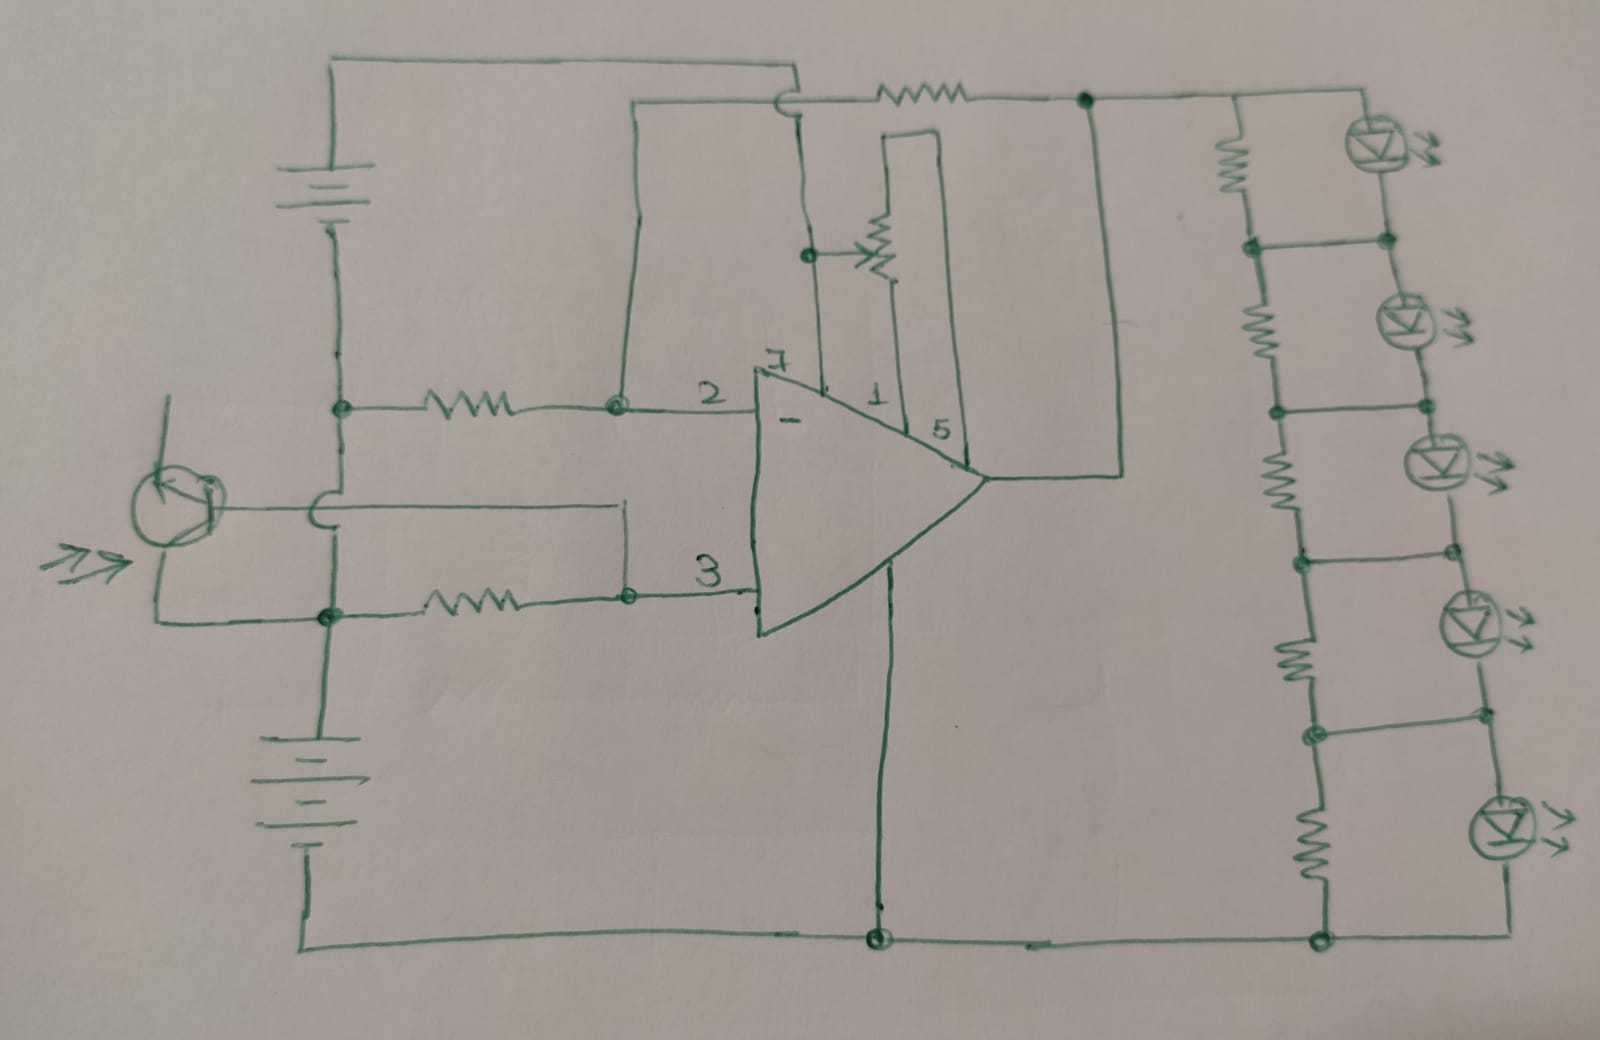crossover: (306, 482, 348, 536), (767, 83, 810, 122)
diode.light_emitting: (1434, 581, 1538, 665), (1464, 790, 1579, 865), (1399, 428, 1514, 500), (1341, 106, 1445, 185), (1370, 286, 1478, 353)
junction: (301, 591, 357, 644), (603, 569, 657, 620), (1292, 721, 1343, 747), (792, 238, 826, 277), (1469, 696, 1504, 731), (1234, 232, 1272, 263), (599, 389, 636, 421), (1410, 385, 1441, 421), (859, 925, 899, 953), (1069, 83, 1102, 115), (1438, 534, 1471, 567), (1257, 396, 1294, 424), (1369, 224, 1403, 254), (1286, 548, 1318, 579), (327, 395, 357, 426), (1304, 928, 1339, 953), (1106, 462, 1132, 489), (1496, 920, 1523, 947), (609, 492, 636, 517), (320, 48, 344, 73), (290, 939, 314, 962), (1222, 87, 1245, 110), (1349, 80, 1374, 101), (623, 94, 646, 115), (148, 610, 169, 630), (875, 129, 894, 150), (927, 124, 946, 143), (784, 58, 802, 75)
operational_amplifier: (738, 361, 991, 642)
resistor: (415, 381, 519, 423), (414, 579, 522, 619), (1287, 804, 1341, 883), (866, 72, 974, 108), (1255, 447, 1300, 521), (1271, 633, 1321, 688), (1240, 297, 1282, 363), (1210, 131, 1254, 194)
resistor.adjustable: (834, 204, 903, 301)
terminal: (156, 384, 178, 408)
text: (692, 550, 723, 592), (696, 378, 729, 405), (774, 407, 809, 431), (765, 346, 790, 375), (865, 380, 889, 408), (929, 415, 953, 443)
transistor.photo: (28, 462, 229, 585)
voltage.dc: (244, 729, 376, 853), (268, 157, 376, 231)
